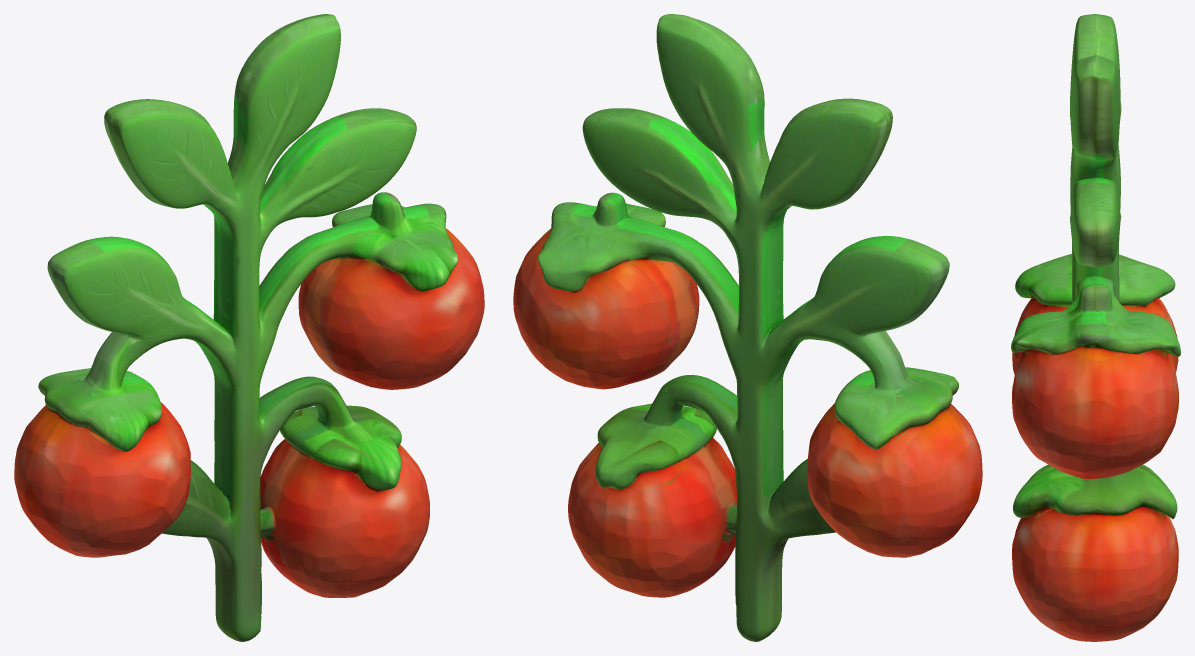
File: Tomato_hydrated.glb
The picture shows the model from 3 angles, left to right: view 1: azimuth 30°, elevation 25°; view 2: azimuth 150°, elevation 25°; view 3: azimuth 270°, elevation 25°; orthographic projection. The views are drawn at different scales.
Bounding box in the file's own units: 1.56 × 2 × 0.5299.
1 material, 1 textured.
